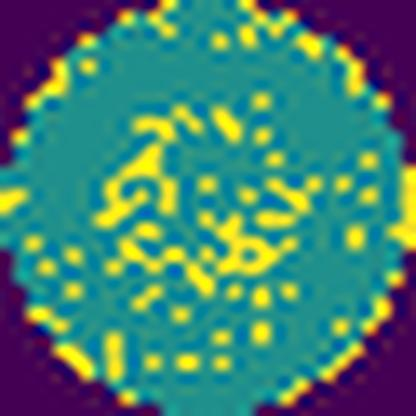Donut: (80, 94, 336, 341)
